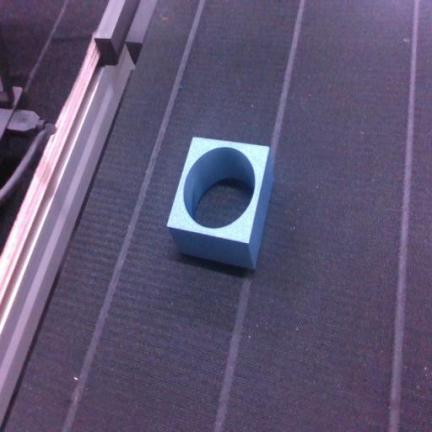square: (168, 138, 273, 269)
